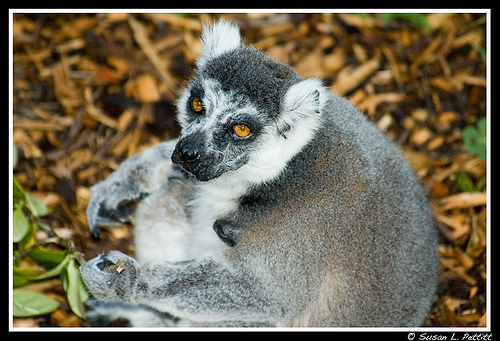cat: (47, 15, 461, 328)
